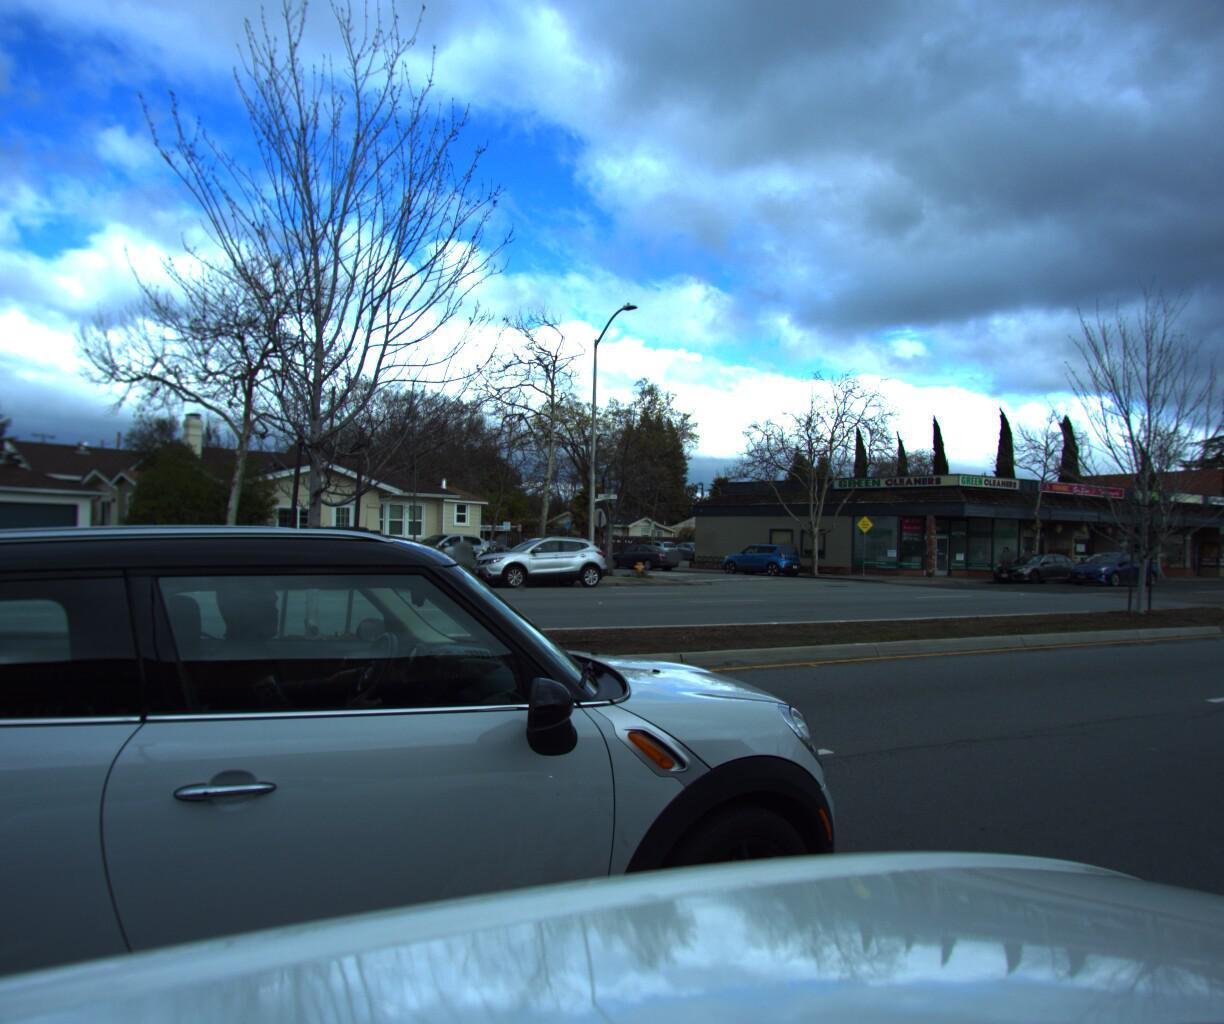car: (222, 521, 434, 590), (460, 530, 616, 586), (383, 528, 505, 574), (981, 545, 1083, 583), (1058, 544, 1159, 581), (711, 537, 804, 574), (600, 537, 681, 568)
